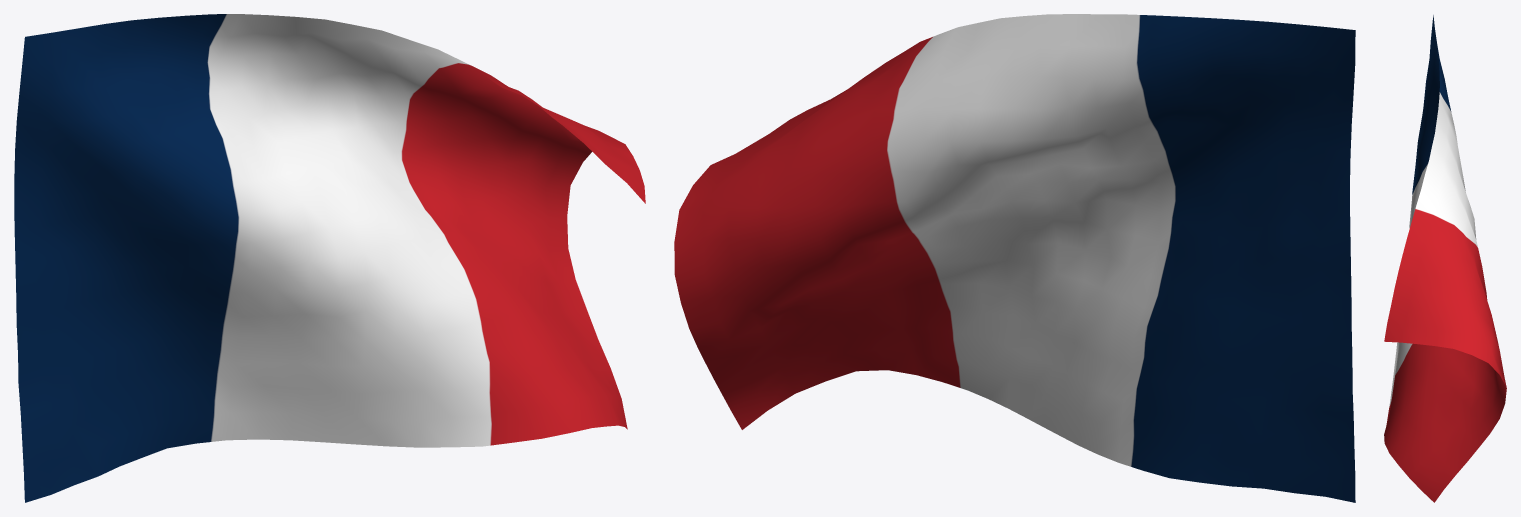
File: French flag.glb
3 renders of one model, left to right at view 1: azimuth 30°, elevation 25°; view 2: azimuth 150°, elevation 25°; view 3: azimuth 270°, elevation 25°, orthographic. The views are drawn at different scales.
Visible parts, largest first — view 1: Flag ShapeKeys_2_4; view 2: Flag ShapeKeys_2_4; view 3: Flag ShapeKeys_2_4.
Part boxes in pixels (x1,y1,x2,y2): Flag ShapeKeys_2_4: (14,14,645,502); Flag ShapeKeys_2_4: (674,14,1355,502); Flag ShapeKeys_2_4: (1384,15,1506,502).
Bounding box in the file's own units: 2.8 × 2.32 × 0.8164.
Materials: 1 (1 with a texture image).
